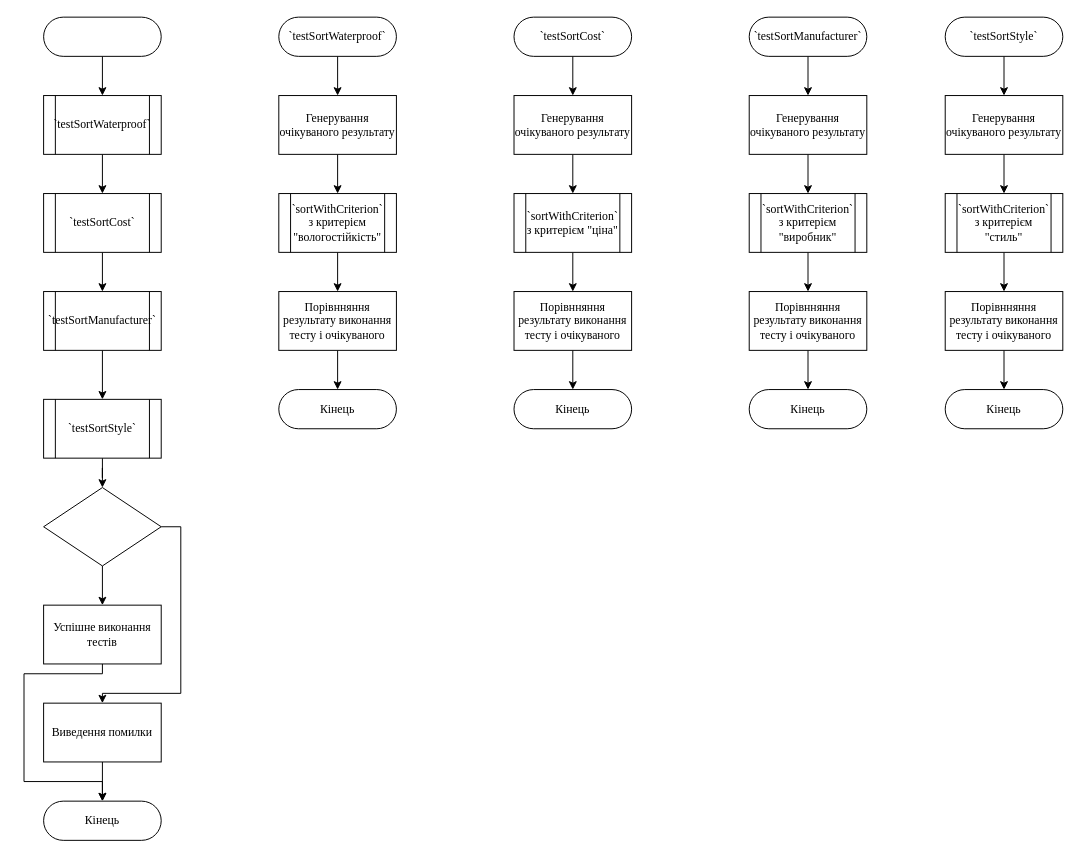
Some shapes in this 1080 by 858 pixel diagram are drawn without their labels. The centre of each missing label's shape, as x and y in pixels:
`main`: point (102, 36)
Тести пройшли успішно?: point (102, 526)
